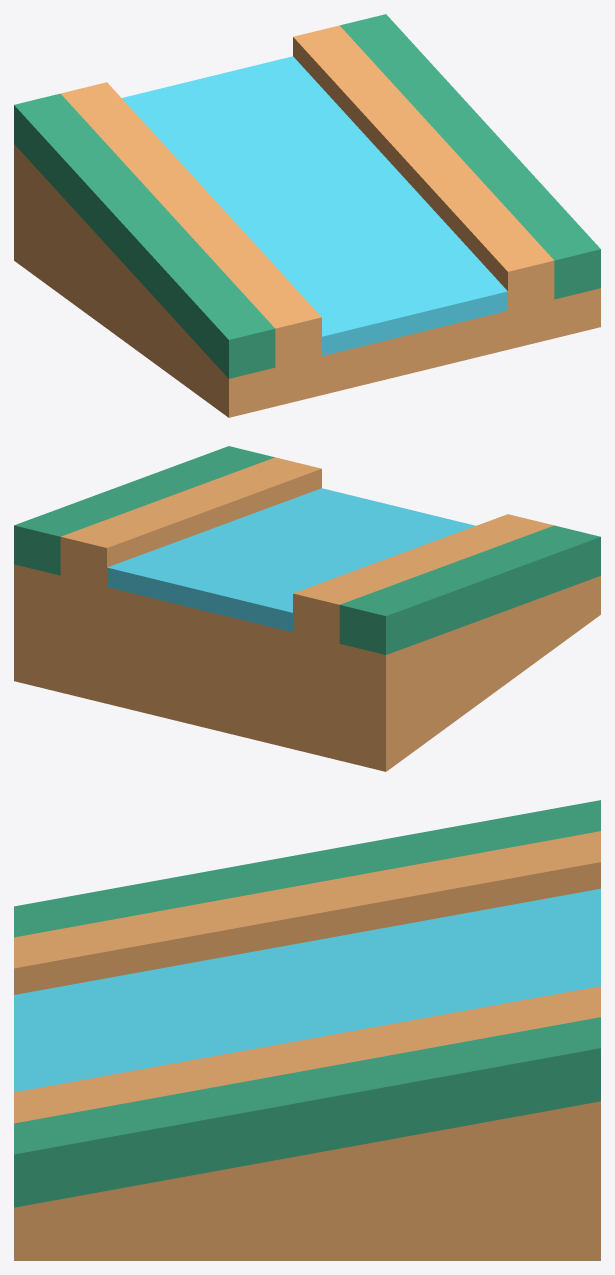
The model's file is tile_riverSlope.dae.
The picture shows the model from 3 angles, top to bottom: view 1: azimuth 30°, elevation 25°; view 2: azimuth 150°, elevation 25°; view 3: azimuth 270°, elevation 25°; orthographic projection. The views are drawn at different scales.
Visible parts, largest first — view 1: tile_riverSlope; view 2: tile_riverSlope; view 3: tile_riverSlope.
Boxes of the visible parts, <box> form: tile_riverSlope: <box>14,14,600,417</box>; tile_riverSlope: <box>14,446,600,771</box>; tile_riverSlope: <box>14,800,600,1260</box>.
Bounding box in the file's own units: 1 × 0.4 × 1.
